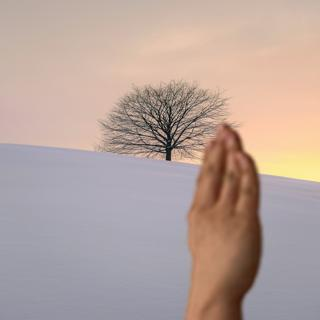RIGHT: (179, 120, 267, 306)
